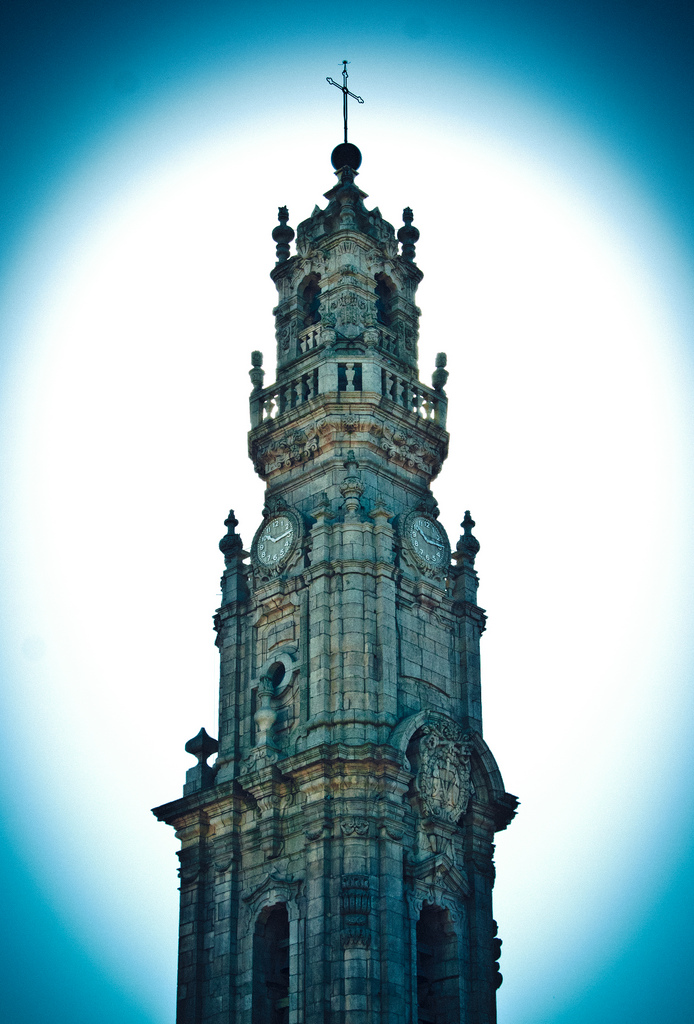clerigos: (151, 59, 522, 1023)
